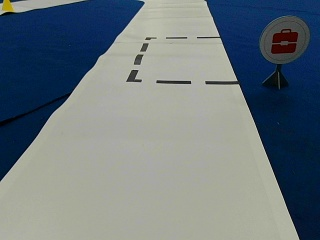company: (260, 17, 310, 63)
